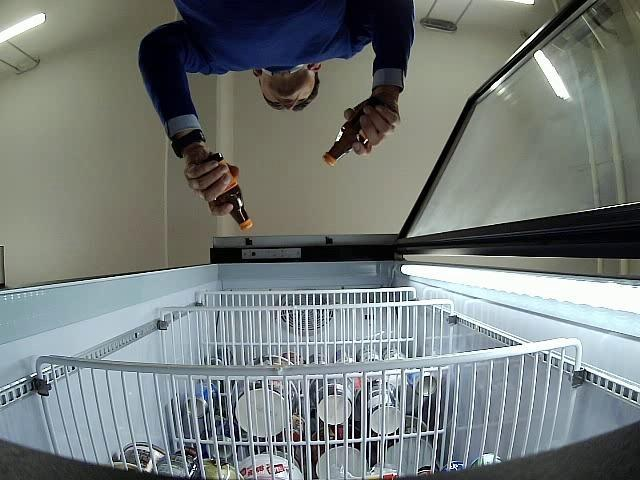17_vita500: (196, 152, 254, 232), (322, 102, 389, 164)
